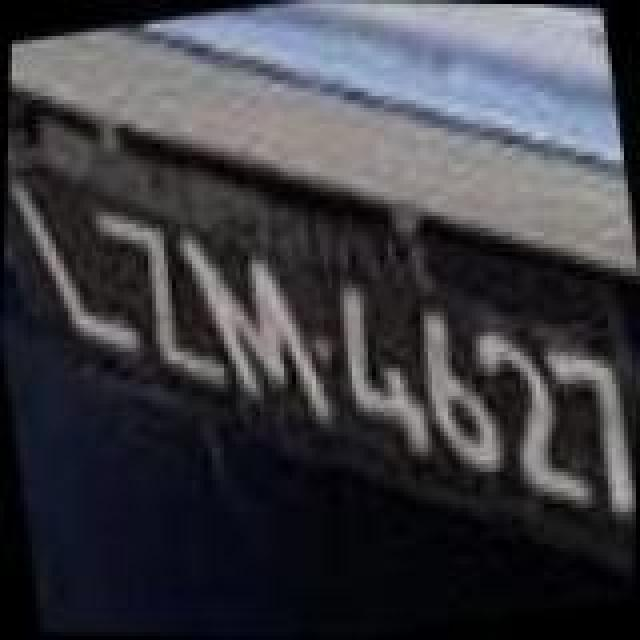2: (458, 312, 598, 528)
4: (326, 270, 438, 466)
6: (404, 296, 512, 484)
7: (536, 334, 640, 526)
L: (0, 158, 148, 370)
M: (170, 206, 342, 442)
Z: (84, 188, 236, 408)
